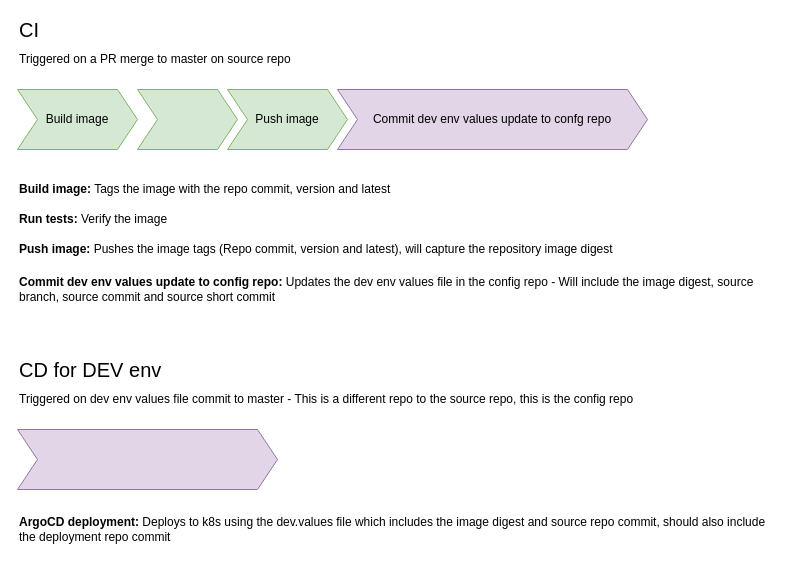
Image size: 795x561. Some labels were removed from this diagram. Each missing label, with the centre of its shape:
ArgoCD deployment on dev cluster: the point at 147,459
Run tests: the point at 187,119
